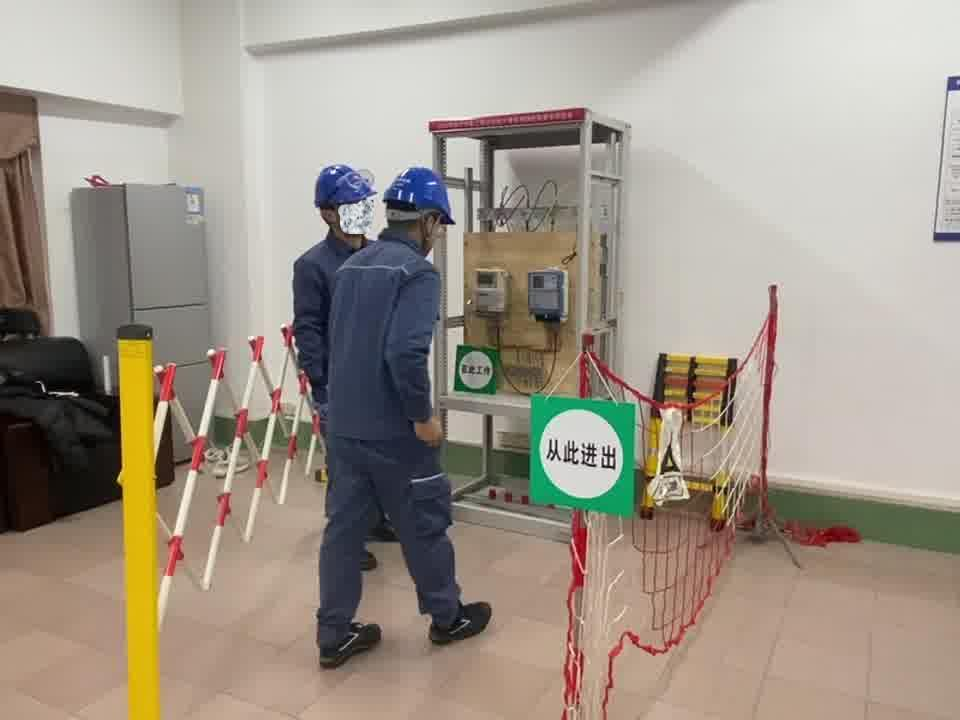halt: (384, 167, 458, 247), (315, 165, 379, 243)
inear: (320, 206, 352, 237), (419, 211, 443, 248)
